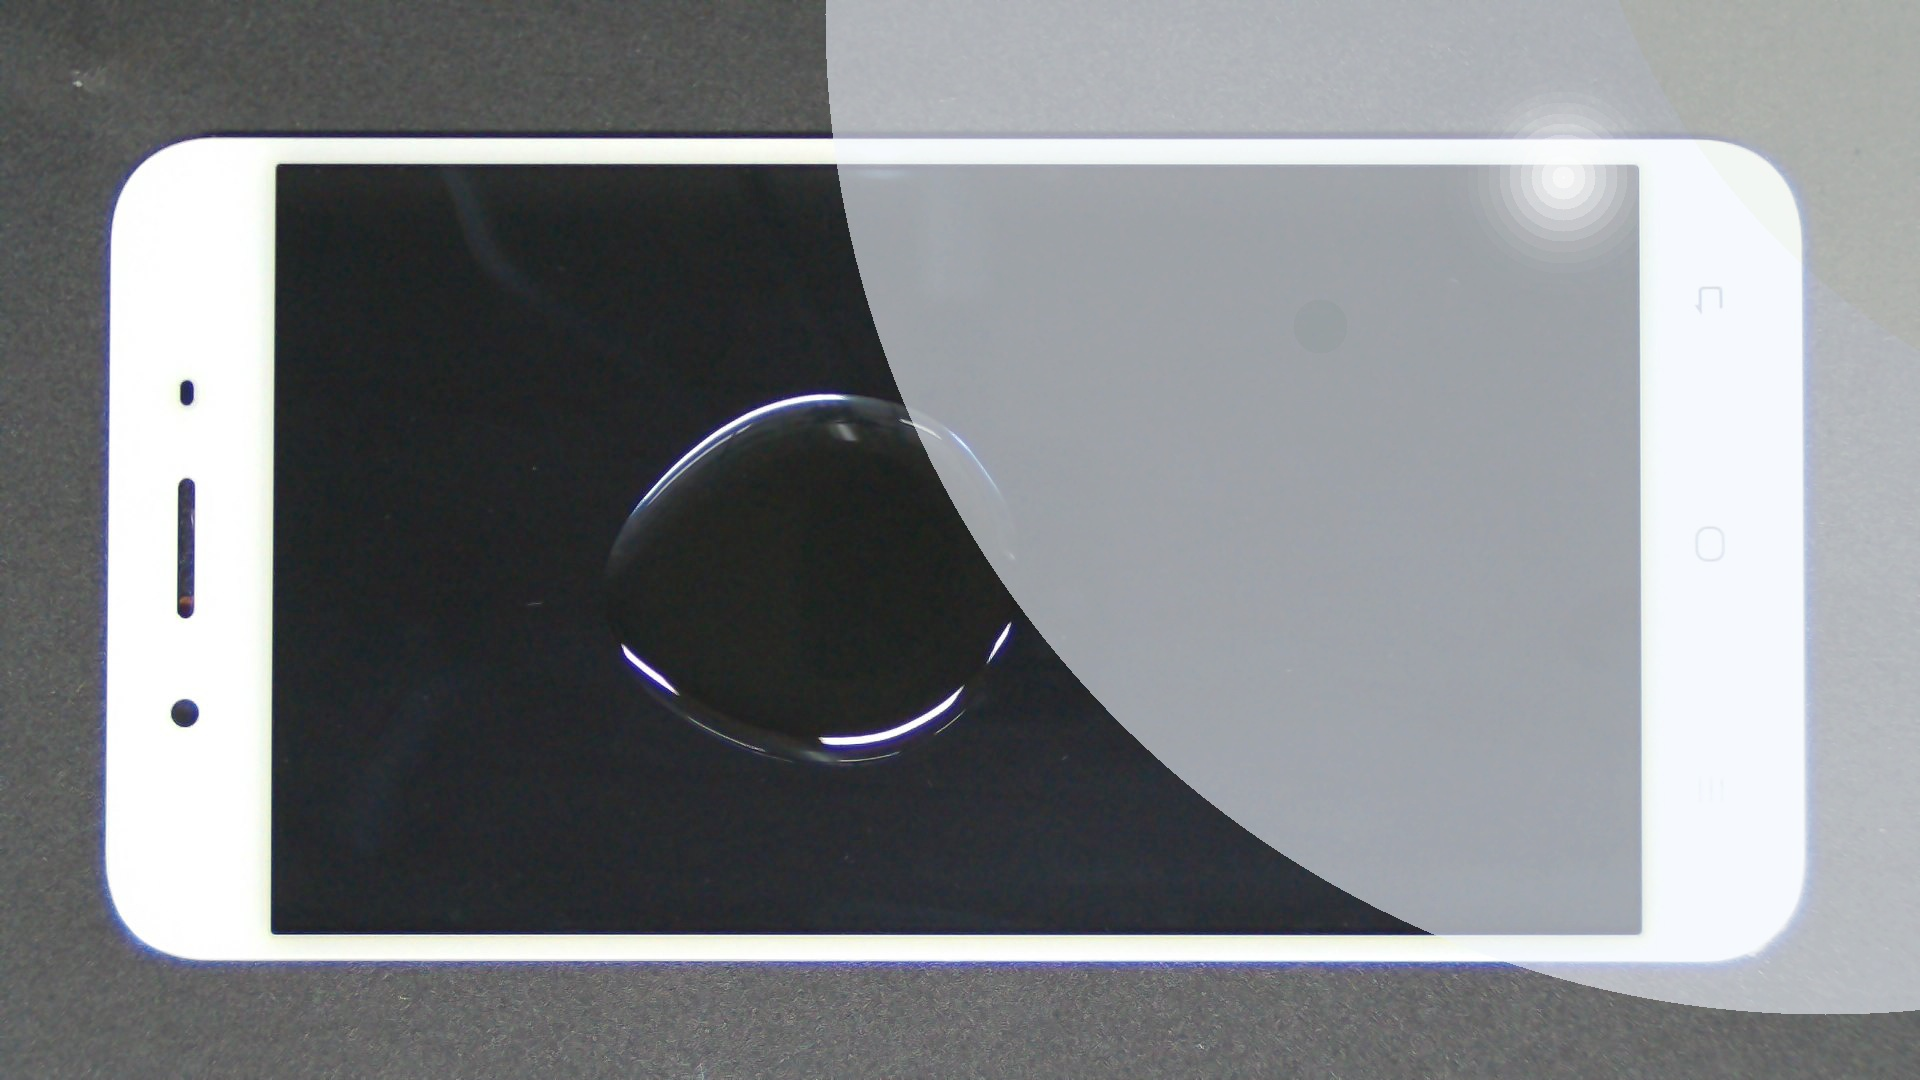oil: (418, 196, 1251, 589)
